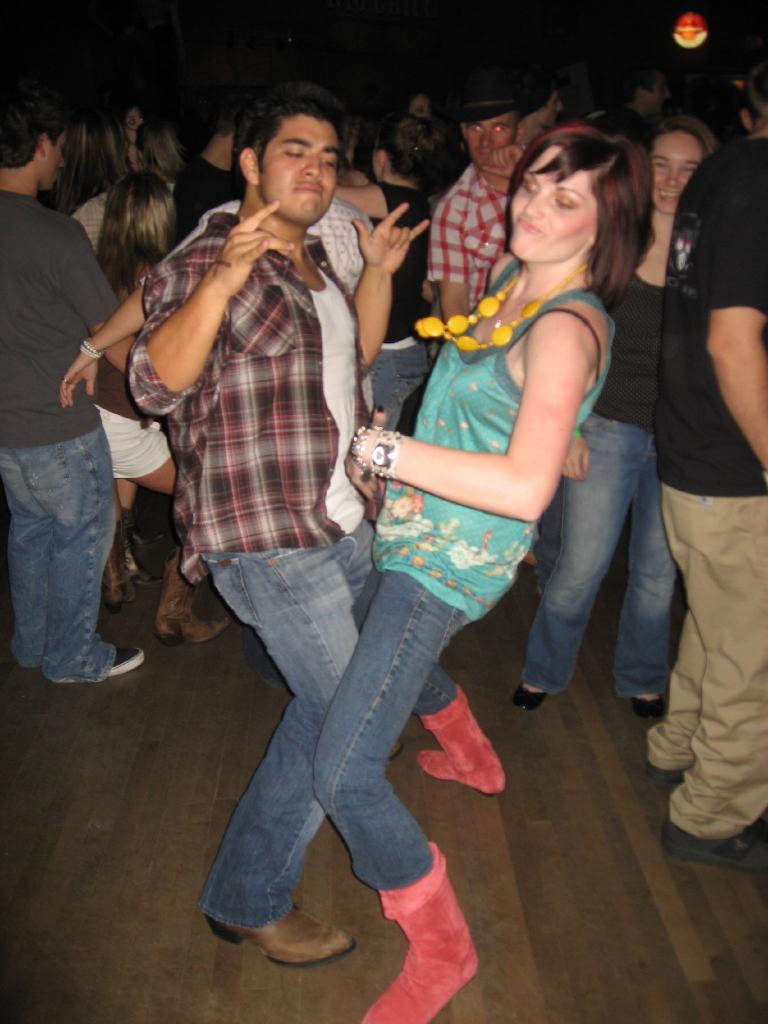Human-face: (508, 146, 600, 254), (264, 113, 348, 218), (653, 127, 708, 218), (40, 134, 68, 189), (537, 97, 562, 127), (646, 79, 660, 113), (415, 99, 432, 120)
